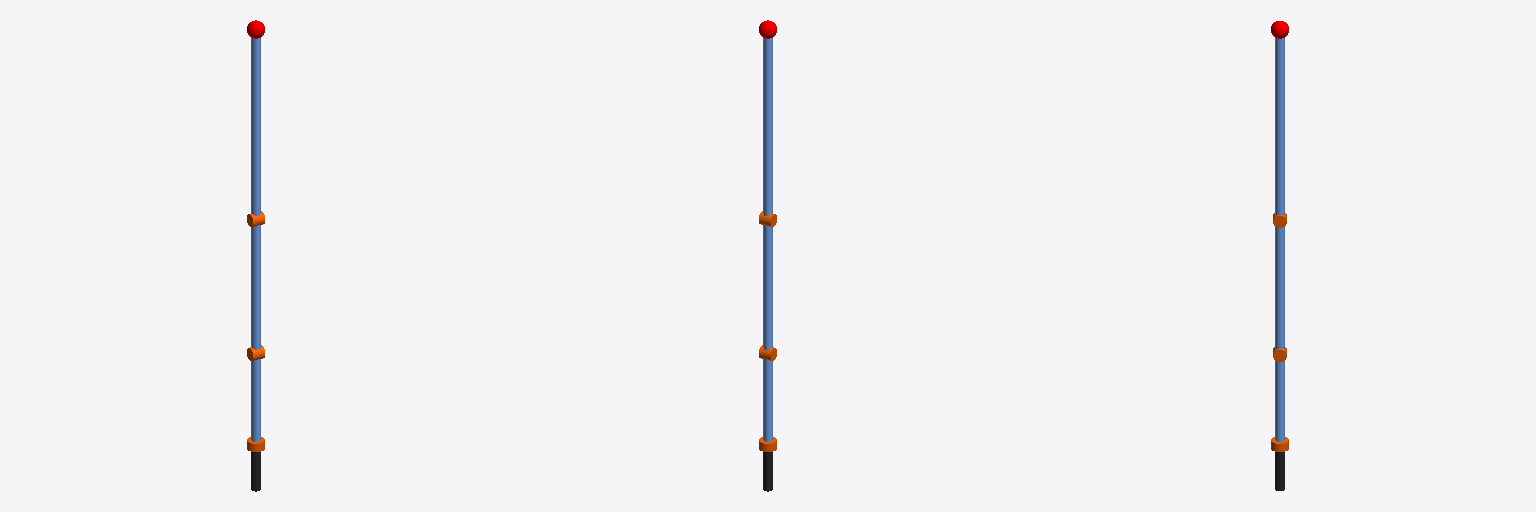
URDF robot description (samurai):
<?xml version="1.0" ?>

<robot name="samurai">

  <material name="Grey">
    <color rgba="0.2 0.2 0.2 1.0"/>
  </material>
  <material name="Orange">
    <color rgba="1.0 0.423529411765 0.0392156862745 1.0"/>
  </material>
  <material name="Blue">
  <color rgba="0.5 0.7 1.0 1.0"/>      
  </material>
  <material name="Red">
    <color rgba="1 0 0 1.0"/>      
  </material>

  <link name="base_link">
    <inertial>
      <origin rpy="0 0 0" xyz="0 0 0.273"/>
      <mass value="5"/>
      <inertia ixx="0.05" ixy="0" ixz="0" iyy="0.05" iyz="0" izz="0.05"/>
    </inertial>
    <visual>
      <origin rpy="0 0 0" xyz="0 0 0.273"/>
      <geometry>
        <cylinder radius="0.05" length="0.546"/>
      </geometry>
      <material name="Grey"/>
    </visual>
  </link>
  <!-- Joint 1 -->
  <joint name="Joint_1" type="revolute">
    <parent link="base_link"/>
    <child link="Link_1"/>
    <origin rpy="0 0 0" xyz="0 0 0.546"/>
    <axis xyz="0 0 1"/>
  </joint>
    <!-- Link 1 -->
  <link name="Link_1">
    <inertial>
      <origin rpy="0 0 0" xyz="0 0 0.5475"/>
      <mass value="5"/>
      <inertia ixx="0.05" ixy="0" ixz="0" iyy="0.05" iyz="0" izz="0.05"/>
    </inertial>
    <visual>
      <origin rpy="0 0 0" xyz="0 0 0.5475"/>
      <geometry>
        <cylinder radius="0.05" length="1.095"/>
      </geometry>
      <material name="Blue"/>
    </visual>
    <visual>
      <origin rpy="0 0 0" xyz="0 0 0"/>
      <geometry>
        <cylinder radius="0.1" length="0.1"/>
      </geometry>
      <material name="Orange"/>
    </visual>
  </link>
  <!-- Joint 2 -->
  <joint name="Joint_2" type="revolute">
    <parent link="Link_1"/>
    <child link="Link_2"/>
    <origin rpy="0 0 0" xyz="0 0 1.095"/>
    <axis xyz="1 0 0"/>
  </joint>
    <!-- Link 2 -->
  <link name="Link_2">
    <inertial>
      <origin rpy="0 0 0" xyz="0 0 0.805"/>
      <mass value="10"/>
      <inertia ixx="0.1" ixy="0" ixz="0" iyy="0.1" iyz="0" izz="0.1"/>
    </inertial>
    <visual>
      <origin rpy="0 0 0" xyz="0 0 0.805"/>
      <geometry>
        <cylinder radius="0.05" length="1.61"/>
      </geometry>
      <material name="Blue"/>
    </visual>
    <visual>
      <origin rpy="0 1.5708 0" xyz="0 0 0"/>
      <geometry>
        <cylinder radius="0.075" length="0.15"/>
      </geometry>
      <material name="Orange"/>
    </visual>
  </link>
  <!-- Joint 3 -->
  <joint name="Joint_3" type="revolute">
    <parent link="Link_2"/>
    <child link="Link_3"/>
    <origin rpy="0 0 0" xyz="0 0 1.61"/>
    <axis xyz="1 0 0"/>
  </joint>
    <!-- Link 3 -->
  <link name="Link_3">
    <inertial>
      <origin rpy="0 0 0" xyz="0 0 1.14"/>
      <mass value="10"/>
      <inertia ixx="0.1" ixy="0" ixz="0" iyy="0.1" iyz="0" izz="0.1"/>
    </inertial>
    <visual>
      <origin rpy="0 0 0" xyz="0 0 1.14"/>
      <geometry>
        <cylinder radius="0.05" length="2.28"/>
      </geometry>
      <material name="Blue"/>
    </visual>
    <visual>
      <origin rpy="0 1.5708 0" xyz="0 0 0"/>
      <geometry>
        <cylinder radius="0.075" length="0.15"/>
      </geometry>
      <material name="Orange"/>
    </visual>
  </link>
  <!-- Joint End-Effector -->
  <joint name="Joint_EE" type="fixed">
    <parent link="Link_3"/>
    <child link="Link_EE"/>
    <origin rpy="0 0 0" xyz="0 0 2.28"/>
    <axis xyz="1 0 0"/>
  </joint>
    <!-- End-Effector -->
  <link name="Link_EE">
    <inertial>
      <origin rpy="0 0 0" xyz="0 0 0"/>
      <mass value="0"/>
      <inertia ixx="0" ixy="0" ixz="0" iyy="0" iyz="0" izz="0"/>
    </inertial>
    <visual>
      <origin rpy="0 0 0" xyz="0 0 0"/>
      <geometry>
        <sphere radius="0.1"/>
      </geometry>
      <material name="Red"/>
    </visual>
  </link>
  
</robot>

--- What the picture shows (computed from the rendered views, not written in the file) ---
Views: 3 orthographic renders of the robot side by side, from view 1: azimuth 30°, elevation 25°; view 2: azimuth 150°, elevation 25°; view 3: azimuth 270°, elevation 25°.
Robot: samurai — 5 links, 4 joints (3 revolute, 1 fixed); root link base_link; default pose: all joints at 0.
Visible links, largest first — view 1: Link_3, Link_2, Link_1; view 2: Link_3, Link_2, Link_1; view 3: Link_3, Link_2, Link_1.
Boxes of the visible links, bbox=[...] form: Link_3: bbox=[247, 38, 264, 226]; Link_2: bbox=[247, 225, 264, 360]; Link_1: bbox=[247, 359, 264, 451]; Link_3: bbox=[759, 38, 776, 226]; Link_2: bbox=[759, 225, 776, 360]; Link_1: bbox=[759, 359, 776, 451]; Link_3: bbox=[1273, 38, 1286, 227]; Link_2: bbox=[1273, 227, 1286, 361]; Link_1: bbox=[1271, 361, 1288, 451].
Bounding box of the posed robot: 0.2 × 0.2 × 5.63 m (x, y, z).
Geometry: primitives only (box / cylinder / sphere), no mesh files.
